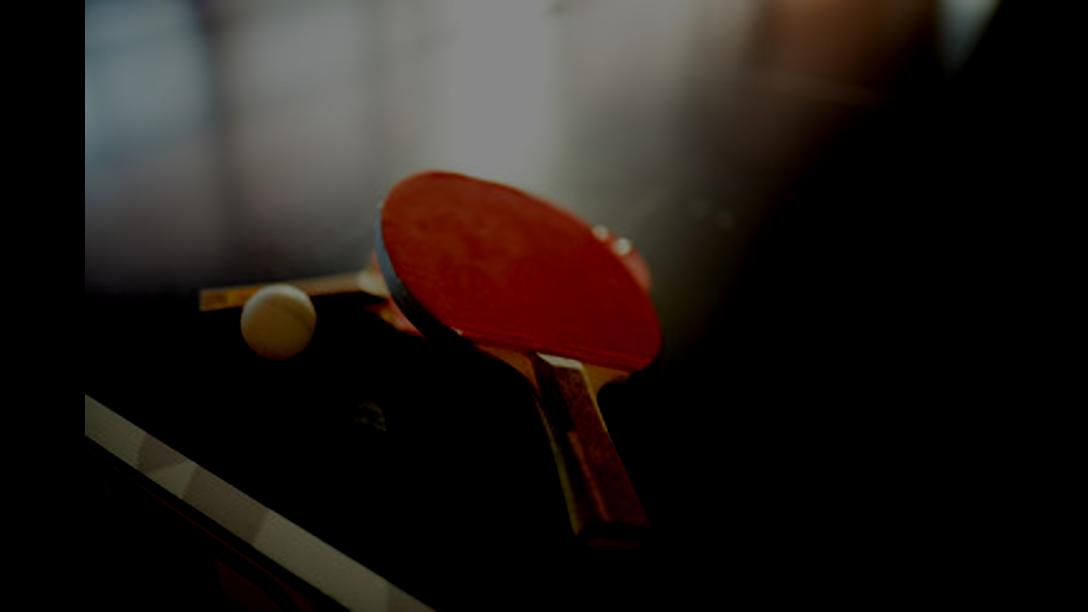Table-Tennis-Ball: (243, 285, 316, 359)
